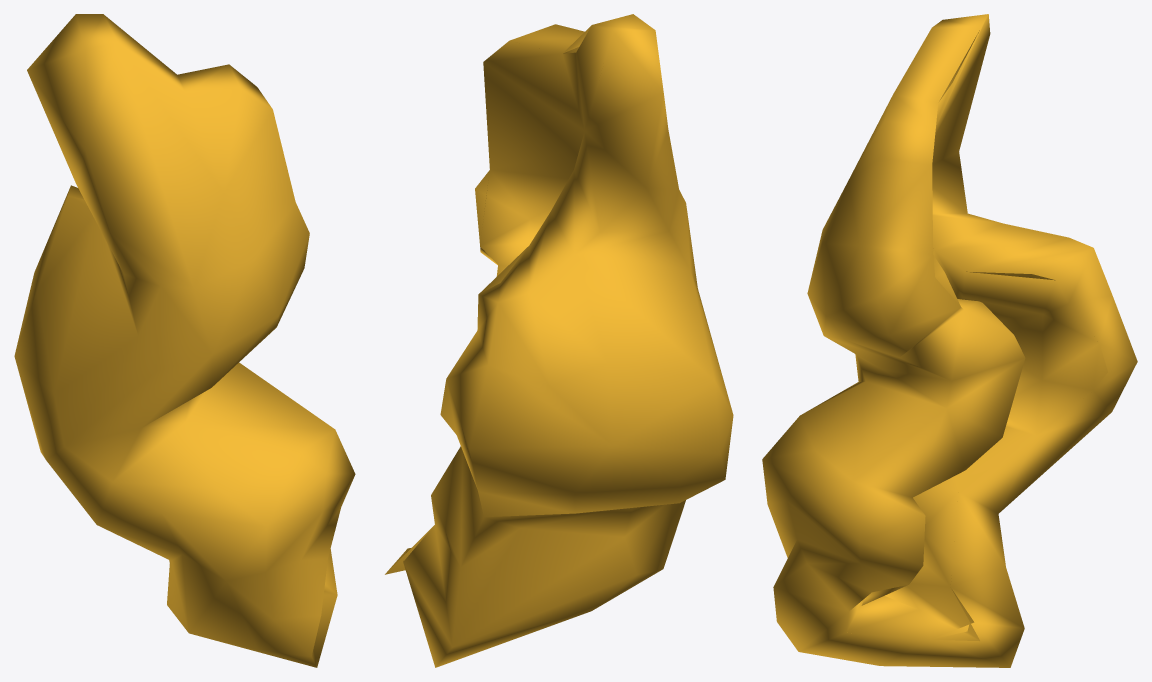
File: nervoso-sulcus-interm-prim-jensen-l.glb
3 views of the same model, side by side, from view 1: azimuth 30°, elevation 25°; view 2: azimuth 150°, elevation 25°; view 3: azimuth 270°, elevation 25° (orthographic). The views are drawn at different scales.
Visible parts, largest first — view 1: Sulcus interm_prim-Jensen.l; view 2: Sulcus interm_prim-Jensen.l; view 3: Sulcus interm_prim-Jensen.l.
Part boxes in pixels (x1,y1,x2,y2): Sulcus interm_prim-Jensen.l: [14, 14, 355, 667]; Sulcus interm_prim-Jensen.l: [385, 14, 733, 667]; Sulcus interm_prim-Jensen.l: [762, 14, 1137, 667].
Bounding box in the file's own units: 0.0137 × 0.0283 × 0.0165.
